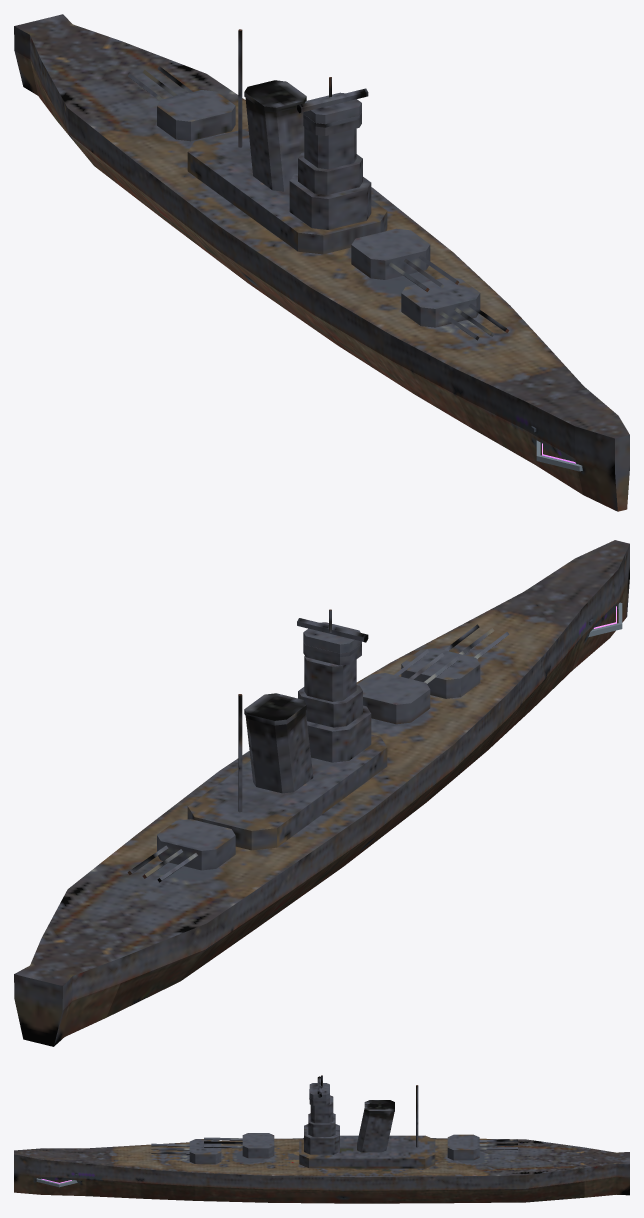
The model's file is simple-far-deployment.glb.
3 renders of one model, top to bottom at view 1: azimuth 30°, elevation 25°; view 2: azimuth 150°, elevation 25°; view 3: azimuth 270°, elevation 25°, orthographic. The views are drawn at different scales.
Visible parts, largest first — view 1: New deck outline.001, simple-far-lower-shell, simple-far-upper-shell, Superstructure base.001, Funnel.001, Main turret 3.001, Main turret 2.001, Bridge lower.001, Main turret 1.001, Bridge middle.001, Bridge tower.001, Bridge top.001 (+1 smaller); view 2: New deck outline.001, simple-far-lower-shell, simple-far-upper-shell, Superstructure base.001, Funnel.001, Main turret 3.001, Main turret 2.001, Main turret 1.001, Bridge lower.001, Bridge tower.001, Bridge middle.001, Bridge top.001 (+1 smaller); view 3: simple-far-lower-shell, New deck outline.001, simple-far-upper-shell, Superstructure base.001, Funnel.001, Main turret 3.001, Main turret 2.001, Bridge lower.001, Main turret 1.001, Bridge tower.001, Bridge middle.001, Funnel cap.001 (+1 smaller).
Part boxes in pixels (bbox=[...]): New deck outline.001: bbox=[14, 14, 629, 438]; simple-far-lower-shell: bbox=[14, 42, 629, 511]; simple-far-upper-shell: bbox=[14, 26, 629, 465]; Superstructure base.001: bbox=[187, 128, 387, 254]; Funnel.001: bbox=[245, 97, 304, 191]; Main turret 3.001: bbox=[157, 90, 235, 141]; Main turret 2.001: bbox=[351, 228, 430, 279]; Bridge lower.001: bbox=[289, 173, 371, 229]; Main turret 1.001: bbox=[401, 277, 480, 327]; Bridge middle.001: bbox=[298, 152, 362, 194]; Bridge tower.001: bbox=[304, 127, 356, 169]; Bridge top.001: bbox=[303, 92, 361, 135]; New deck outline.001: bbox=[14, 540, 629, 985]; simple-far-lower-shell: bbox=[14, 571, 629, 1046]; simple-far-upper-shell: bbox=[14, 544, 629, 1002]; Superstructure base.001: bbox=[187, 734, 387, 850]; Funnel.001: bbox=[245, 710, 313, 793]; Main turret 3.001: bbox=[157, 819, 235, 870]; Main turret 2.001: bbox=[357, 673, 430, 724]; Main turret 1.001: bbox=[401, 648, 480, 698]; Bridge lower.001: bbox=[307, 705, 371, 762]; Bridge tower.001: bbox=[304, 656, 356, 701]; Bridge middle.001: bbox=[298, 685, 362, 727]; Bridge top.001: bbox=[303, 622, 361, 665]; simple-far-lower-shell: bbox=[14, 1168, 629, 1203]; New deck outline.001: bbox=[14, 1138, 629, 1177]; simple-far-upper-shell: bbox=[14, 1154, 629, 1186]; Superstructure base.001: bbox=[299, 1135, 435, 1168]; Funnel.001: bbox=[357, 1108, 394, 1152]; Main turret 3.001: bbox=[447, 1134, 479, 1160]; Main turret 2.001: bbox=[242, 1133, 274, 1158]; Bridge lower.001: bbox=[304, 1124, 339, 1154]; Main turret 1.001: bbox=[189, 1139, 221, 1164]; Bridge tower.001: bbox=[310, 1095, 333, 1123]; Bridge middle.001: bbox=[308, 1113, 335, 1136]; Funnel cap.001: bbox=[364, 1100, 394, 1113].
Size of the model in its own units: 20.78 by 28.2 by 136.
Materials: 4 (1 with a texture image).
